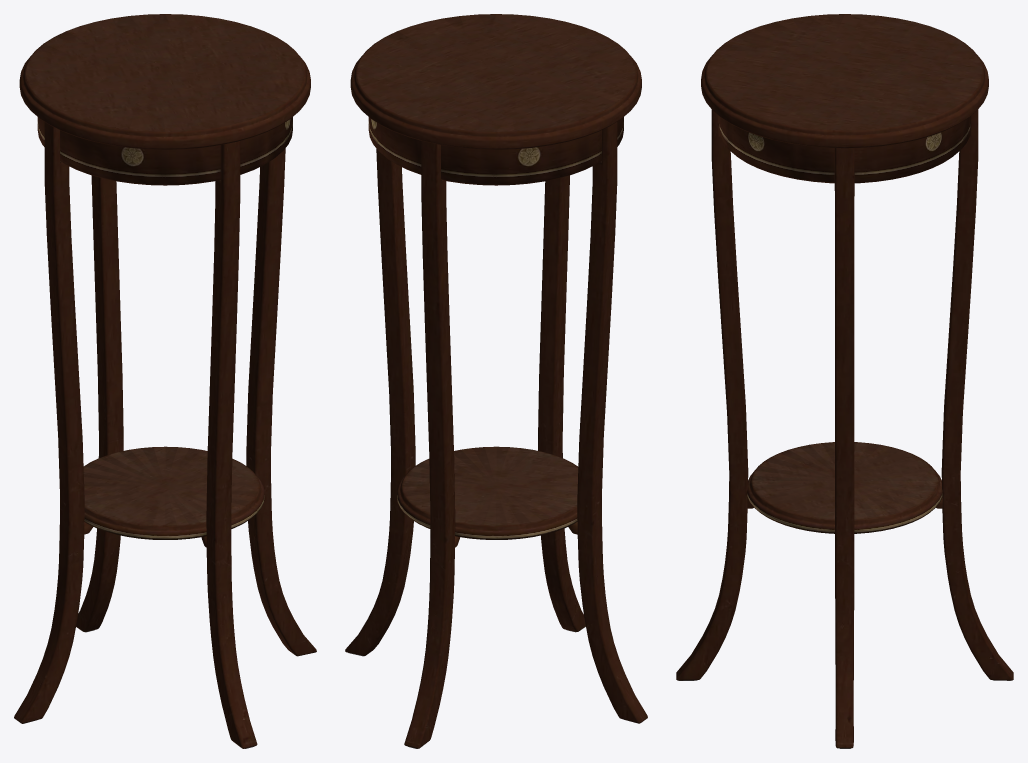
File: side_table_tall_01.glb
3 renders of one model, left to right at view 1: azimuth 30°, elevation 25°; view 2: azimuth 150°, elevation 25°; view 3: azimuth 270°, elevation 25°, orthographic.
Visible parts, largest first — view 1: side_table_tall_01; view 2: side_table_tall_01; view 3: side_table_tall_01.
Part boxes in pixels (bbox=[...]): side_table_tall_01: bbox=[14, 14, 316, 748]; side_table_tall_01: bbox=[345, 14, 647, 748]; side_table_tall_01: bbox=[676, 14, 1013, 748].
Size of the model in its own units: 0.384 by 0.7612 by 0.384.
1 material, 1 textured.
